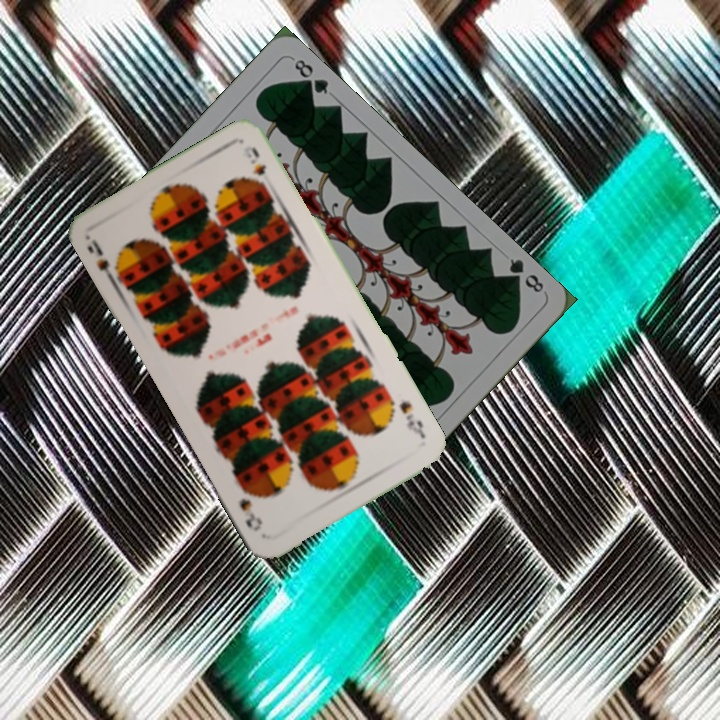G8: (501, 254, 547, 296)
S9: (82, 234, 125, 288), (395, 396, 428, 442)
